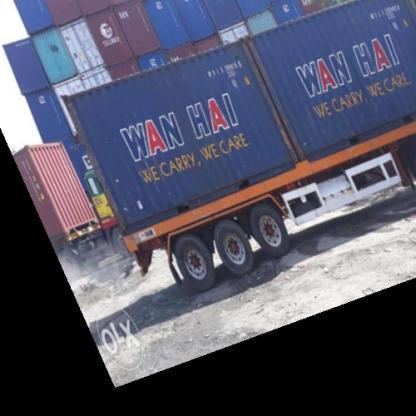Damage: (238, 26, 310, 160)
